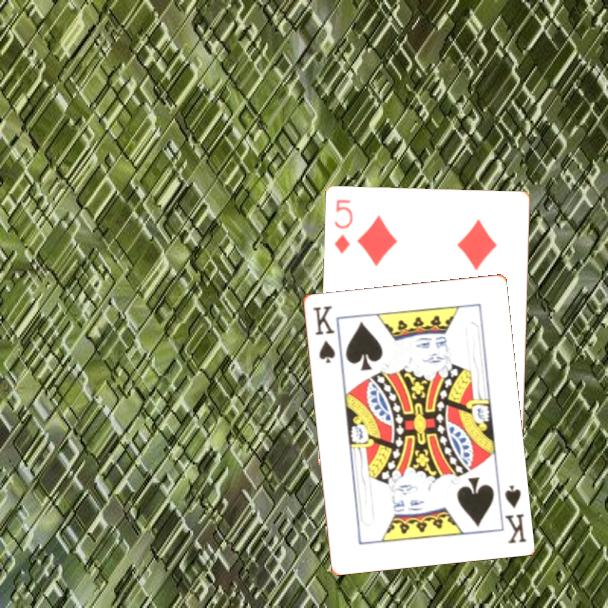d05: (331, 197, 356, 257)
s13: (309, 302, 338, 366), (501, 481, 529, 546)
